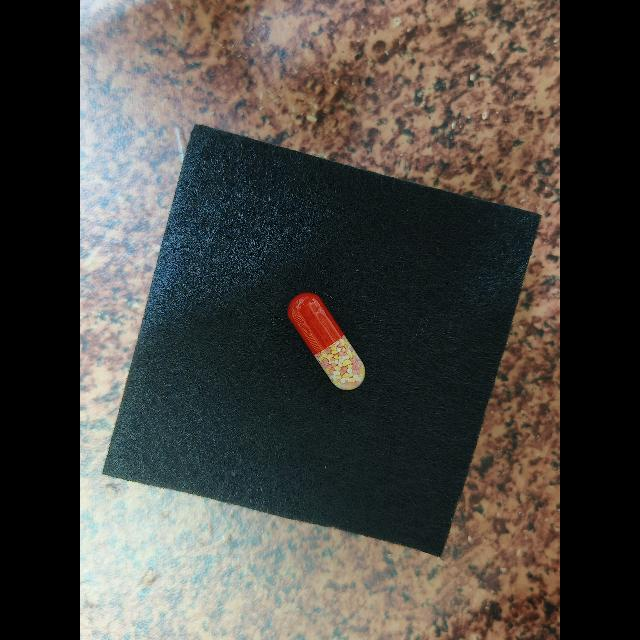Intact Capsule: (287, 292, 365, 390)
